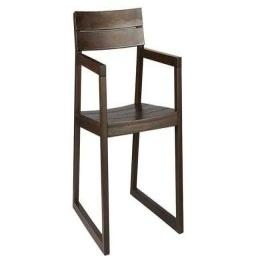Chair: (72, 11, 184, 256)
